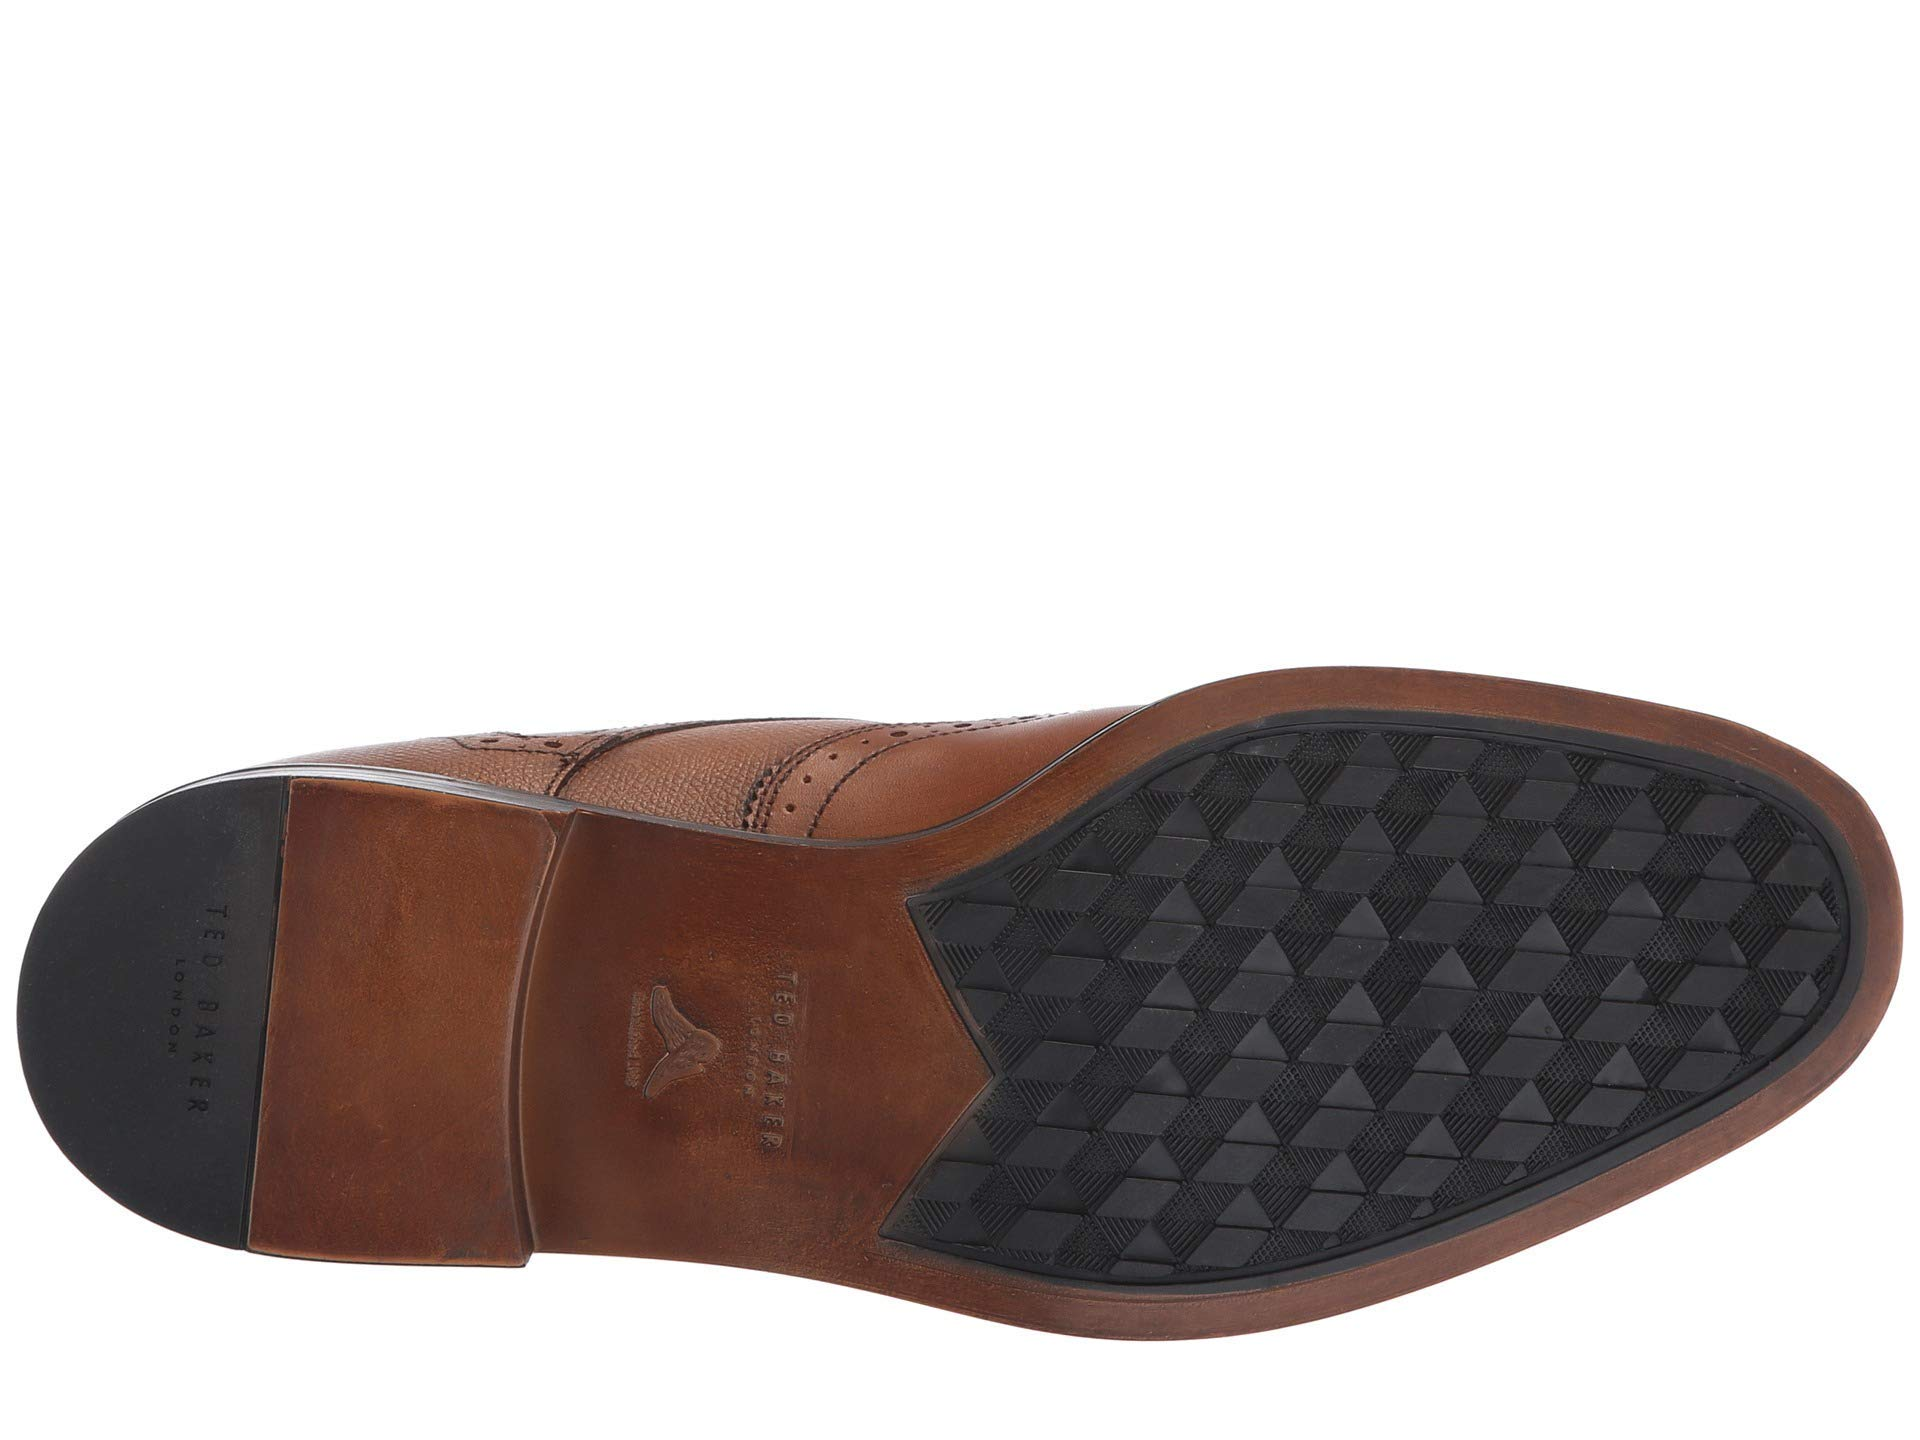line: (1126, 852, 1432, 1204)
polygon: (1126, 852, 1432, 1204)
triangle: (1126, 852, 1432, 1204)
